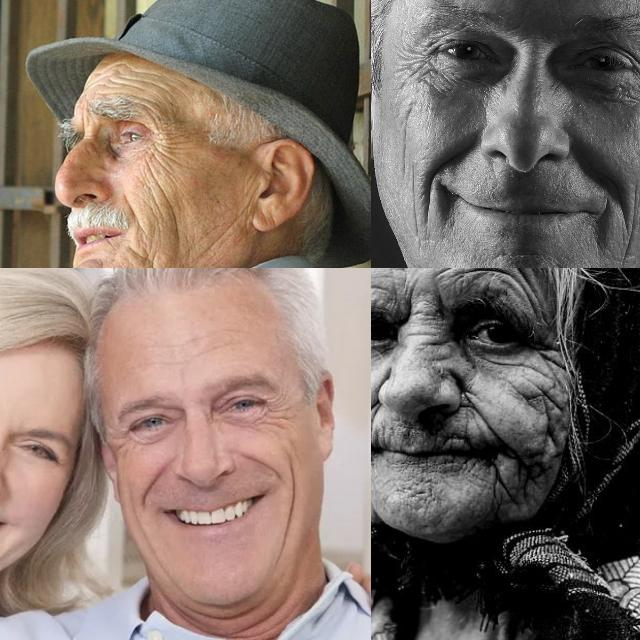bunny_line: (416, 335, 456, 371)
chin: (396, 478, 438, 502)
crows_feet: (533, 332, 563, 382), (402, 44, 431, 80), (146, 125, 176, 158), (262, 398, 288, 427), (110, 428, 132, 454)
forehead: (442, 268, 535, 279), (195, 337, 229, 359), (371, 268, 403, 289), (124, 73, 160, 91), (134, 97, 166, 117), (108, 59, 136, 73), (101, 78, 122, 94)
frown_line: (400, 283, 418, 323), (428, 284, 447, 320), (78, 113, 90, 135)
gummy_smile: (452, 379, 498, 436), (422, 162, 442, 216), (244, 450, 282, 478), (141, 463, 163, 505), (371, 394, 386, 441), (121, 194, 141, 226), (604, 173, 624, 205)
masseter: (524, 386, 564, 460), (133, 514, 167, 562), (278, 482, 300, 544), (146, 170, 176, 212), (405, 170, 423, 232), (626, 186, 640, 259), (206, 225, 234, 258), (398, 106, 412, 168), (166, 212, 188, 248), (138, 241, 160, 268)
sad_smile: (486, 462, 516, 514), (371, 453, 379, 512)
